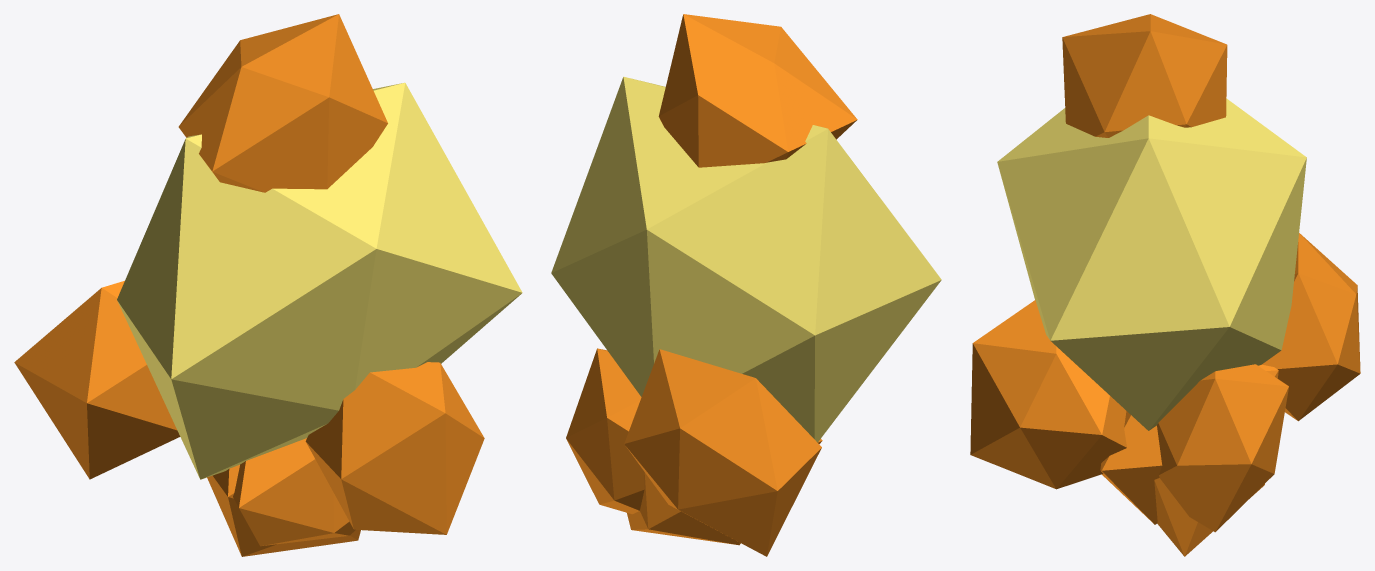
The model's file is frame_5.glb.
3 renders of one model, left to right at view 1: azimuth 30°, elevation 25°; view 2: azimuth 150°, elevation 25°; view 3: azimuth 270°, elevation 25°, orthographic. The views are drawn at different scales.
Visible parts, largest first — view 1: effect_explosion_large_frame_5; view 2: effect_explosion_large_frame_5; view 3: effect_explosion_large_frame_5.
Boxes of the visible parts, left/top/right/bottom form: effect_explosion_large_frame_5: left=14, top=14, right=522, bottom=556; effect_explosion_large_frame_5: left=551, top=14, right=941, bottom=556; effect_explosion_large_frame_5: left=970, top=14, right=1360, bottom=556.
Bounding box in the file's own units: 10.28 × 15.33 × 10.65.
